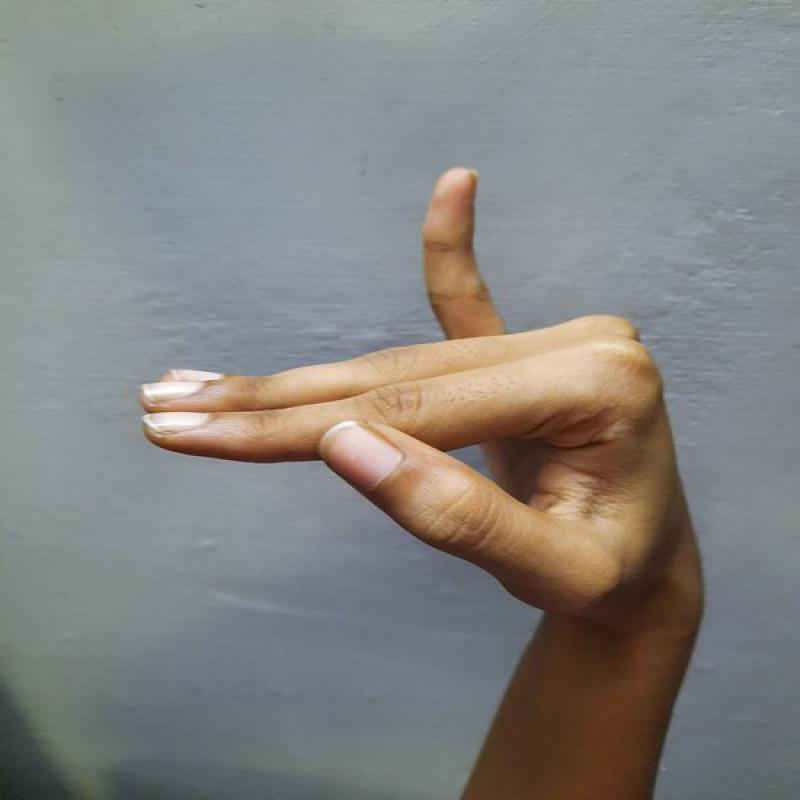Kartharee Mukham: (123, 151, 713, 656)
